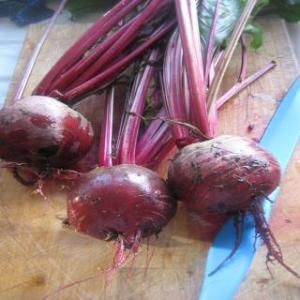beet: (170, 136, 286, 221), (66, 164, 172, 245), (2, 94, 96, 176)
